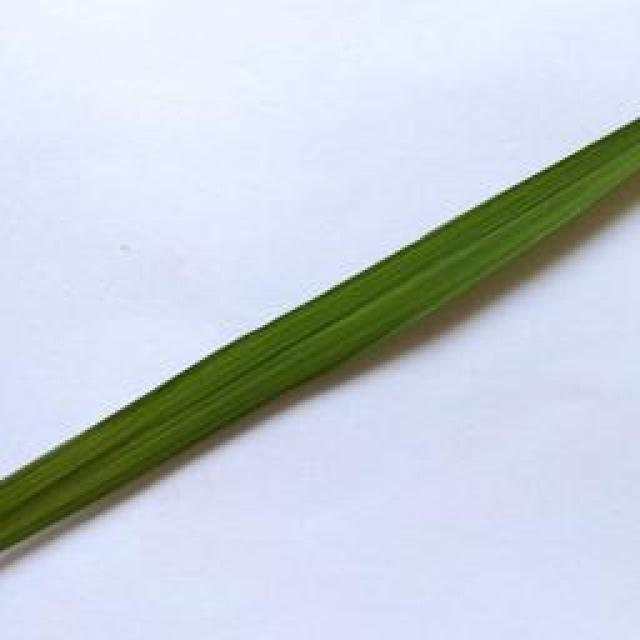Healthy-Plant: (0, 112, 640, 554)
